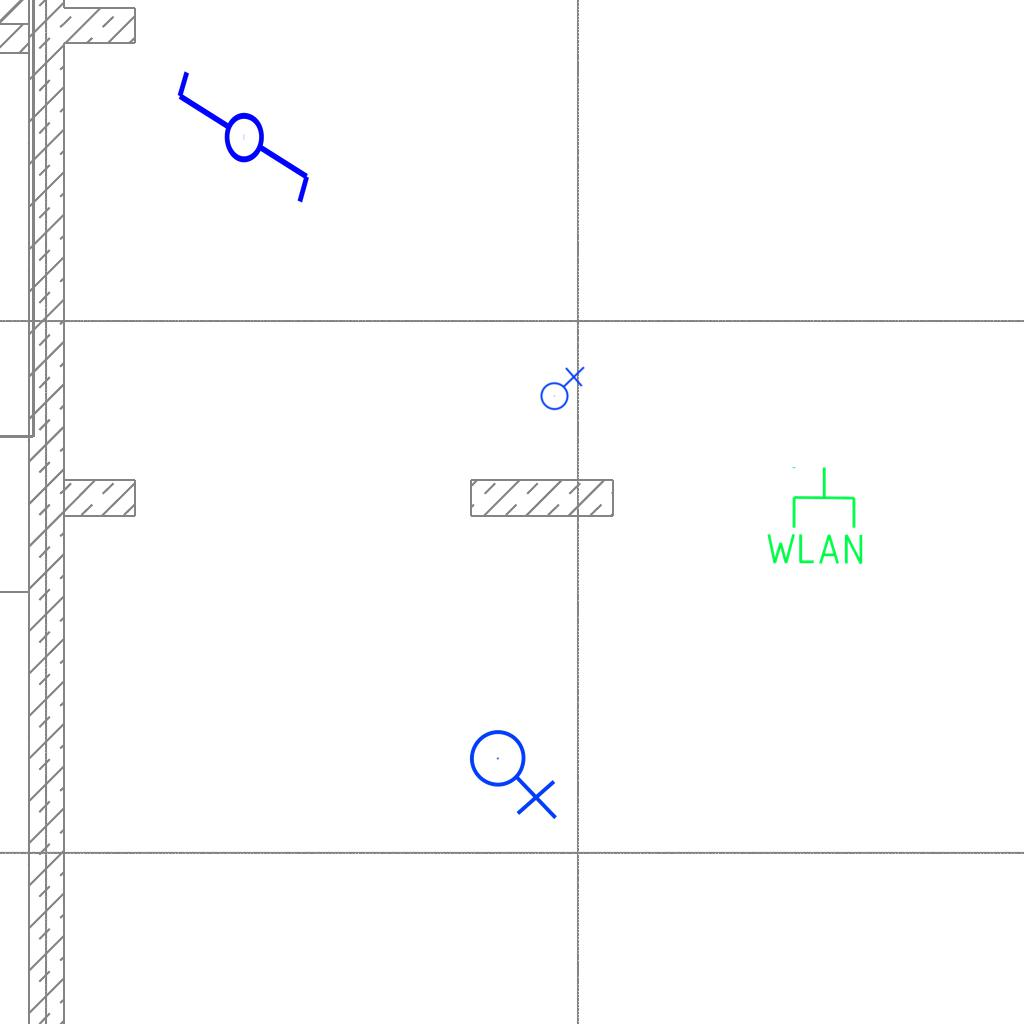Elektroanschluss_allgemein_230V_Geraeteanschlussdose_230V: (468, 721, 562, 820), (536, 364, 585, 411)
WLAN: (762, 464, 867, 568)
Wechselschalter: (170, 67, 314, 224)
